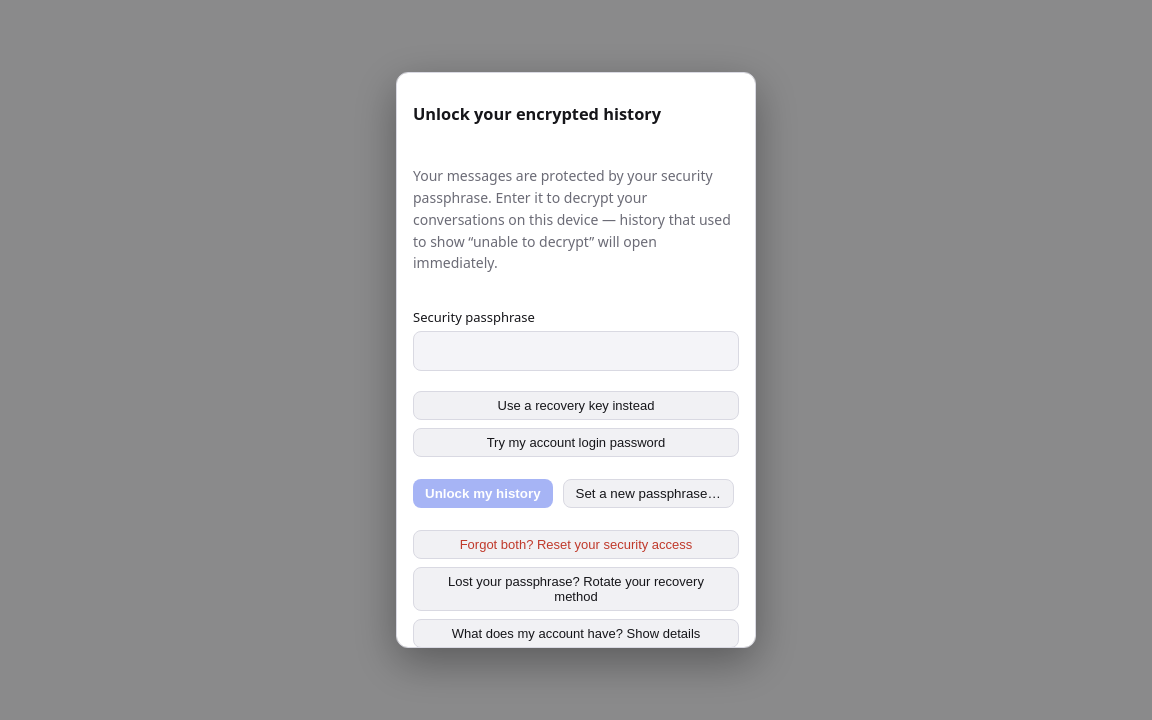
W21 item 2 security gate › wrong unlock secret -> error step offers retry + sign out (the only escape hatch)
The width and height of the screenshot is (1152, 720).
Later steps or results of the test are not shown.
Expected: the heading "Unlock your encrypted history" is shown, [413, 103, 661, 125]
Type "nope" into the password field labelled "Security passphrase". click: (576, 351)
box: [413, 331, 739, 371]
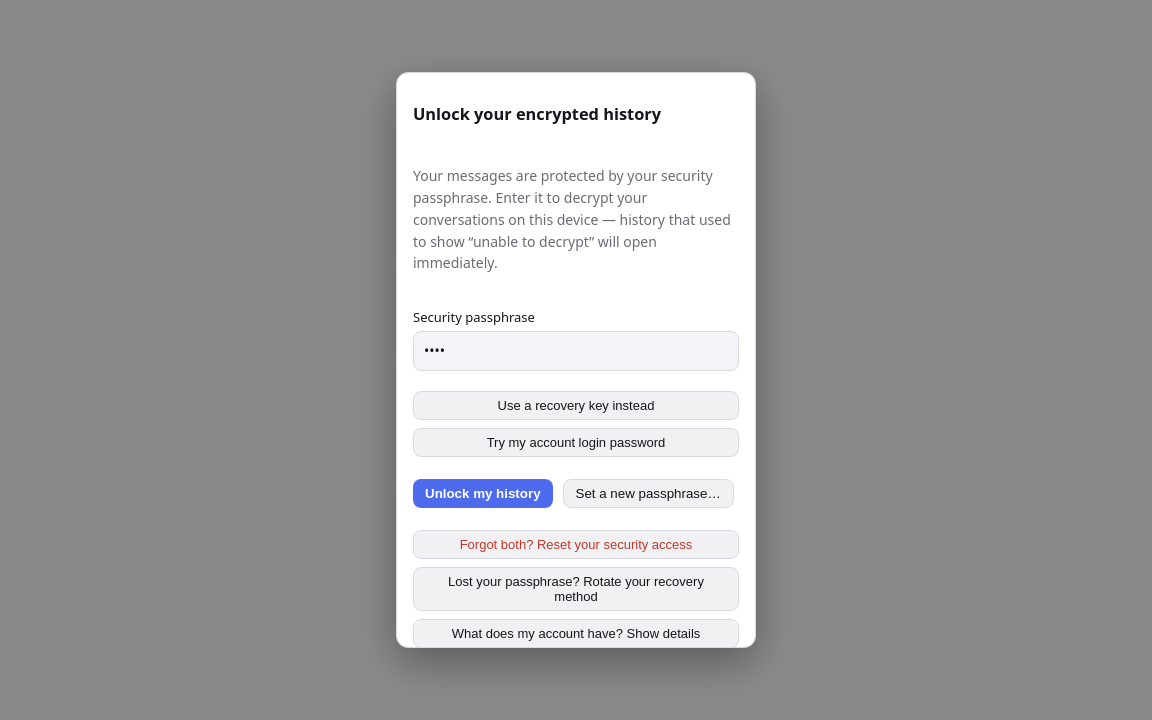
Click the button "Unlock my history". click: (483, 494)
box: [413, 479, 552, 508]
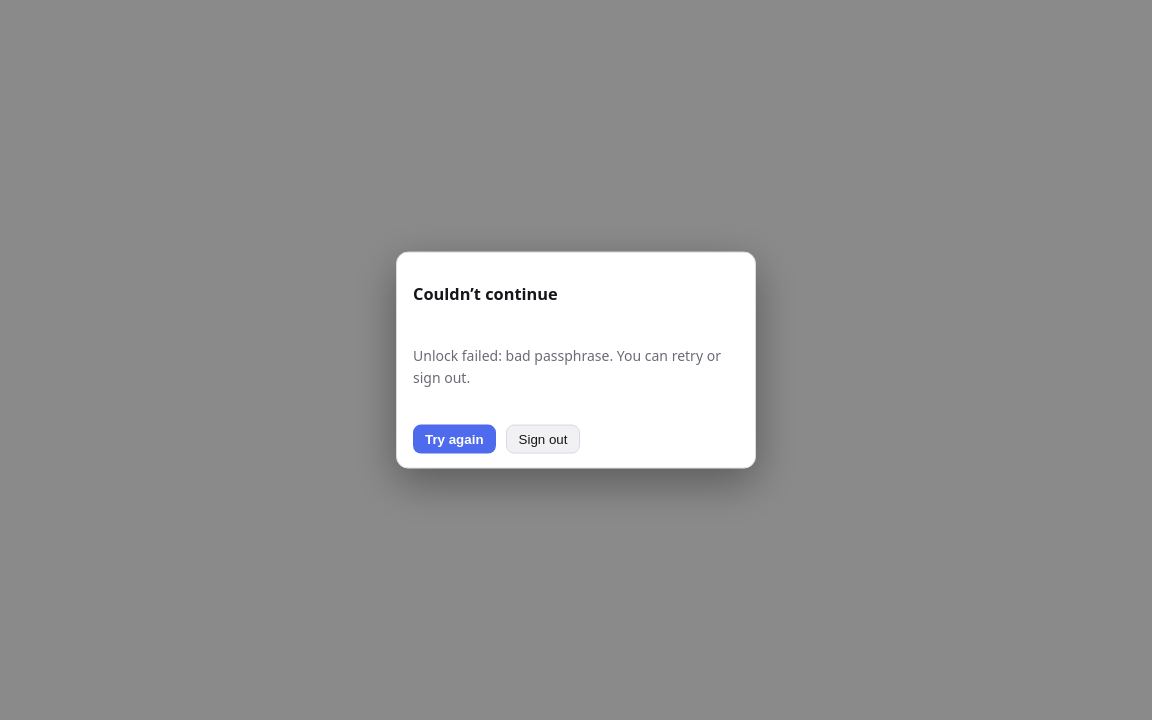
Expected: the heading "Couldn’t continue" is shown, [413, 283, 558, 305]
Expected: the text "Unlock failed: bad passphrase. You can retry or sign out." is shown, [413, 345, 739, 388]
